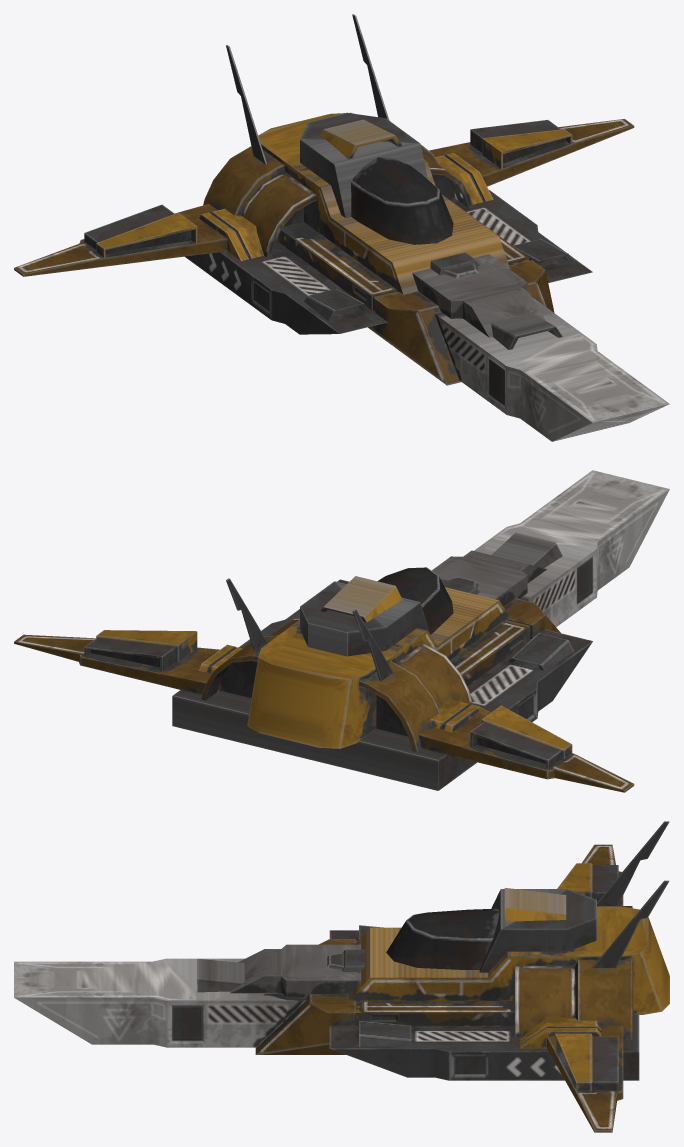
File: solis-reach-exterior-v1.glb
The picture shows the model from 3 angles, top to bottom: view 1: azimuth 30°, elevation 25°; view 2: azimuth 150°, elevation 25°; view 3: azimuth 270°, elevation 25°; orthographic projection. The views are drawn at different scales.
Visible parts, largest first — view 1: Challenger; view 2: Challenger; view 3: Challenger.
Boxes of the visible parts, bbox=[...] form: Challenger: bbox=[14, 14, 669, 441]; Challenger: bbox=[14, 470, 669, 792]; Challenger: bbox=[14, 821, 669, 1132].
Size of the model in its own units: 10.5 by 3.02 by 10.18.
1 material, 1 textured.
